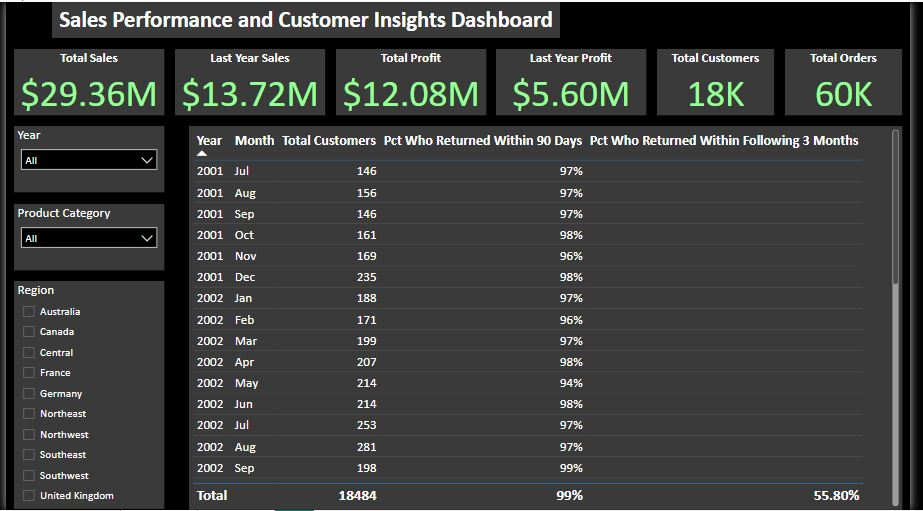

What the dashboard file says about the page in this screenshot:
{"tool":"powerbi","page":{"name":"Page 2","canvas":[1280,720],"ordinal":1},"visuals":[{"type":"tableEx","fields":{"Values":["Calendar.Year","Calendar.Month","CalculatedTable.TotalCustomers","CalculatedTable.Pct Who Returned Within 90 Days","CalculatedTable.Pct Who Returned Within Following 3 Months"]},"box":[259.4,175.7,1010.6,544.3],"z":0},{"type":"textbox","box":[65.2,0,720,51],"z":1000},{"type":"card","title":"Total Sales","fields":{"Values":["CalculatedTable.Total Sales"]},"box":[11.3,67,212.6,93.5],"z":3000},{"type":"card","title":"Total Orders","fields":{"Values":["CalculatedTable.Total Orders"]},"box":[1104.1,66.6,165.8,93.5],"z":4000},{"type":"card","title":"Total Profit","fields":{"Values":["CalculatedTable.Total Profit"]},"box":[467.1,66.6,212.6,93.5],"z":5000},{"type":"card","title":"Total Customers","fields":{"Values":["CalculatedTable.Total Customers"]},"box":[923,66.6,165.8,93.5],"z":6000},{"type":"card","title":"Last Year Sales","fields":{"Values":["CalculatedTable.Last Year Sales"]},"box":[239.2,66.6,212.6,93.5],"z":7000},{"type":"card","title":"Last Year Profit","fields":{"Values":["CalculatedTable.Last Year Profit"]},"box":[695.1,66.6,212.6,93.5],"z":8000},{"type":"slicer","title":"Year","fields":{"Values":["Calendar.Year"]},"box":[11.3,176.5,212.6,93.5],"z":9000},{"type":"slicer","title":"Region","fields":{"Values":["Sales.Territories.Region"]},"box":[11.3,395.4,212.6,323.1],"z":10000},{"type":"slicer","title":"Product Category","fields":{"Values":["ProductCategories.Category"]},"box":[11.3,285.9,212.6,93.5],"z":11000}]}

Visuals, with their boxes in screenshot pixels (x1, y1, x2, y2), scaled from the page's 1280x720 canvas onto the 923x511 screenshot:
tableEx - Calendar.Year x Calendar.Month: bbox(187, 125, 916, 510)
textbox: bbox(47, 0, 566, 36)
"Total Sales" card: bbox(8, 48, 161, 114)
"Total Orders" card: bbox(796, 47, 916, 114)
"Total Profit" card: bbox(337, 47, 490, 114)
"Total Customers" card: bbox(666, 47, 785, 114)
"Last Year Sales" card: bbox(172, 47, 326, 114)
"Last Year Profit" card: bbox(501, 47, 655, 114)
"Year" slicer: bbox(8, 125, 161, 192)
"Region" slicer: bbox(8, 281, 161, 510)
"Product Category" slicer: bbox(8, 203, 161, 269)
